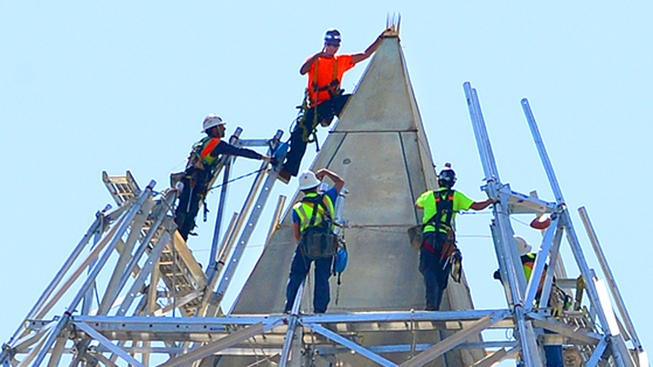blue: (320, 28, 343, 55), (437, 167, 457, 189)
white: (201, 113, 226, 139), (297, 170, 319, 196)
